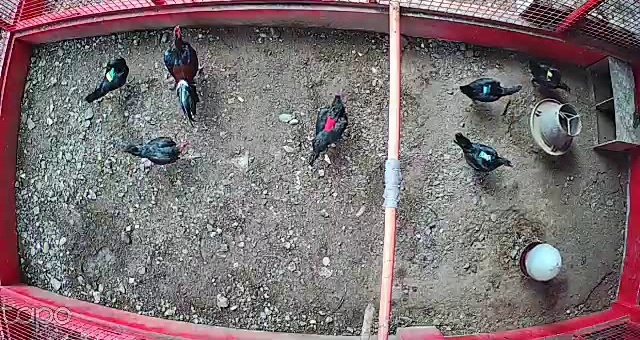Chicken: (121, 130, 205, 171), (309, 91, 349, 166), (451, 131, 517, 176), (85, 52, 138, 103), (454, 73, 523, 111), (523, 57, 574, 97)
Rooster: (162, 24, 208, 124)
Saddle_Color_Blue: (483, 84, 488, 94)
Saddle_Color_Red: (323, 114, 338, 133)
Saddle_Color_Yellow: (546, 71, 552, 79)
Saddle_Color_YellowGreen: (106, 67, 117, 85)
